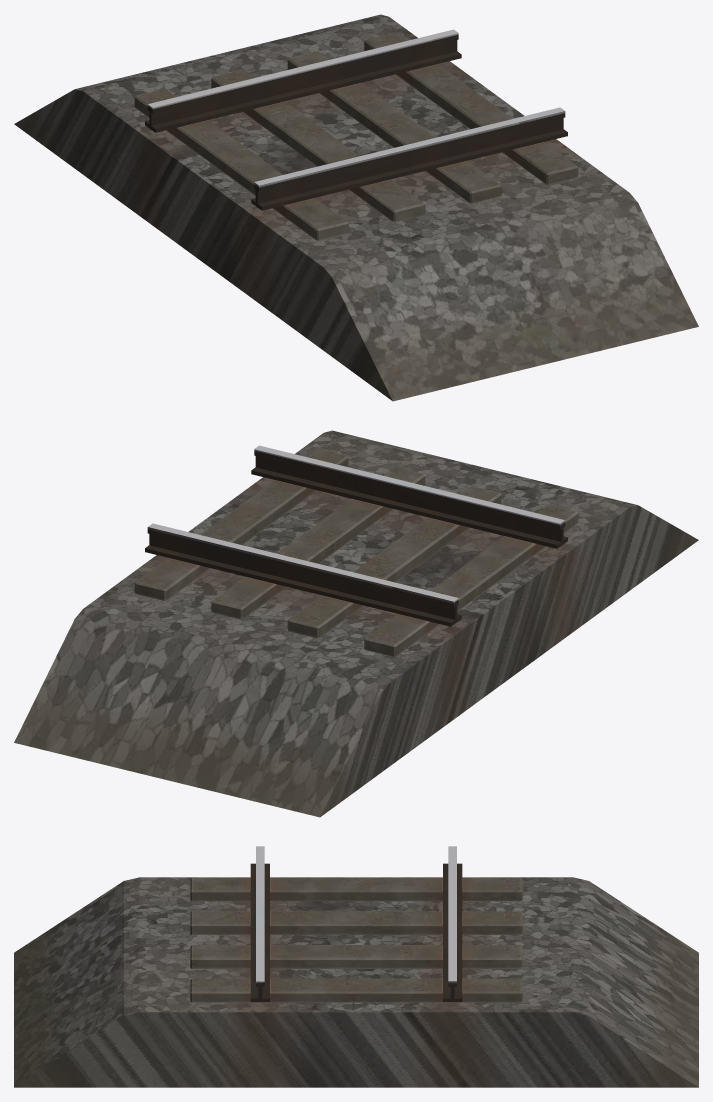
File: rail-track-short.glb
3 renders of one model, top to bottom at view 1: azimuth 30°, elevation 25°; view 2: azimuth 150°, elevation 25°; view 3: azimuth 270°, elevation 25°, orthographic. The views are drawn at different scales.
Parts seen in each view (by area): view 1: rail-track-short; view 2: rail-track-short; view 3: rail-track-short.
Boxes of the visible parts, x1,y1,x2,y2 form: rail-track-short: [14, 14, 698, 401]; rail-track-short: [14, 430, 698, 817]; rail-track-short: [14, 846, 698, 1087].
Size of the model in its own units: 2.5 by 0.92 by 5.36.
Materials: 1 (1 with a texture image).
